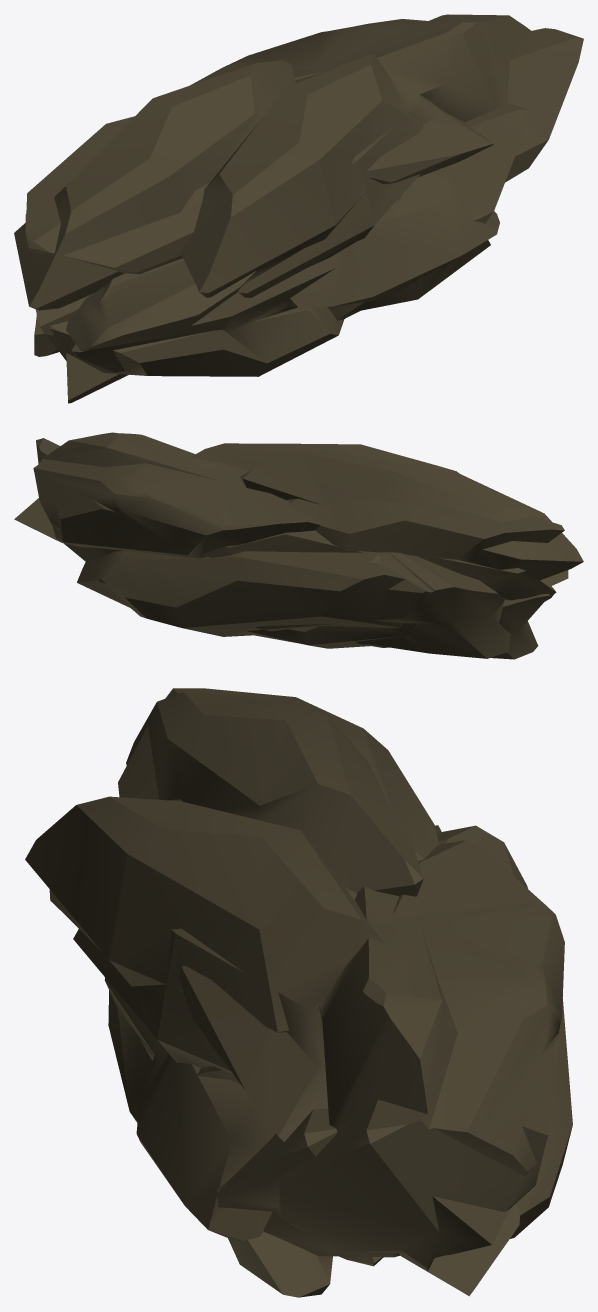
Rendered from BgMD_Rock_02_02.fbx.
The picture shows the model from 3 angles, top to bottom: view 1: azimuth 30°, elevation 25°; view 2: azimuth 150°, elevation 25°; view 3: azimuth 270°, elevation 25°; orthographic projection. The views are drawn at different scales.
Parts seen in each view (by area): view 1: polySurface51; view 2: polySurface51; view 3: polySurface51.
Boxes of the visible parts, x1,y1,x2,y2 form: polySurface51: [14, 14, 583, 403]; polySurface51: [14, 432, 583, 659]; polySurface51: [25, 688, 572, 1297].
Bounding box in the file's own units: 202 × 78.11 × 98.17.
